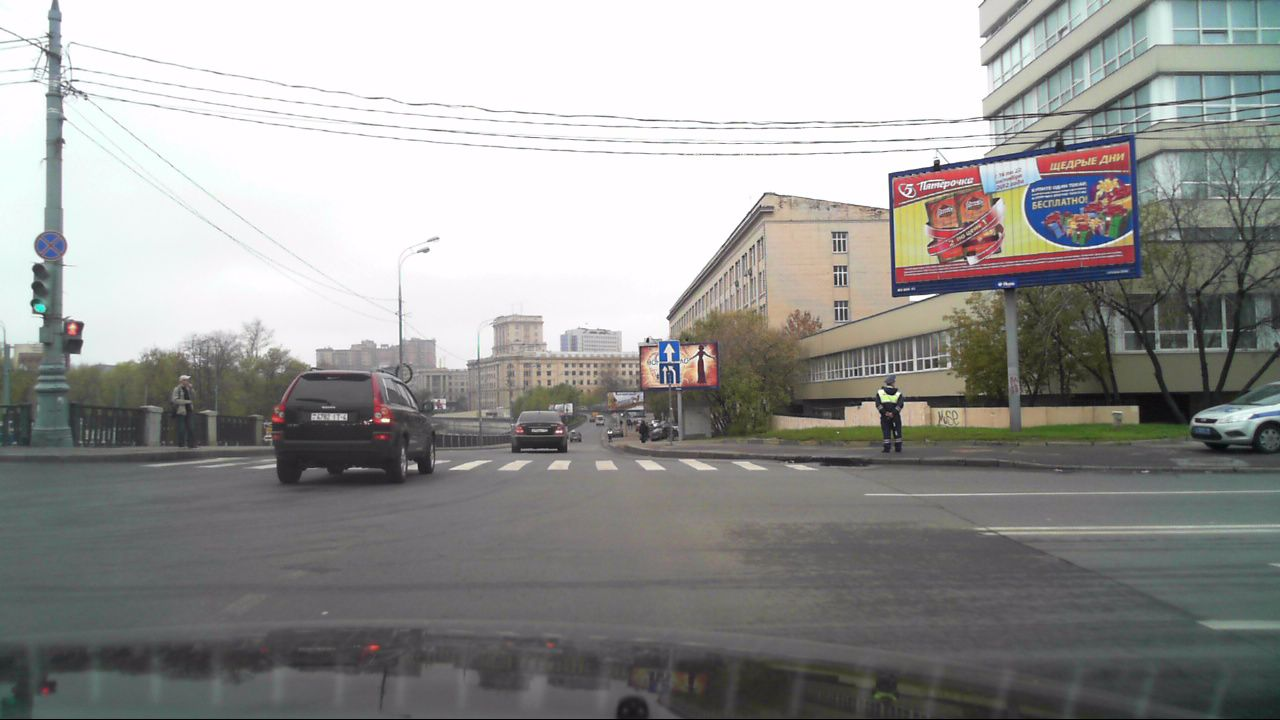No Parking: (32, 228, 69, 261)
